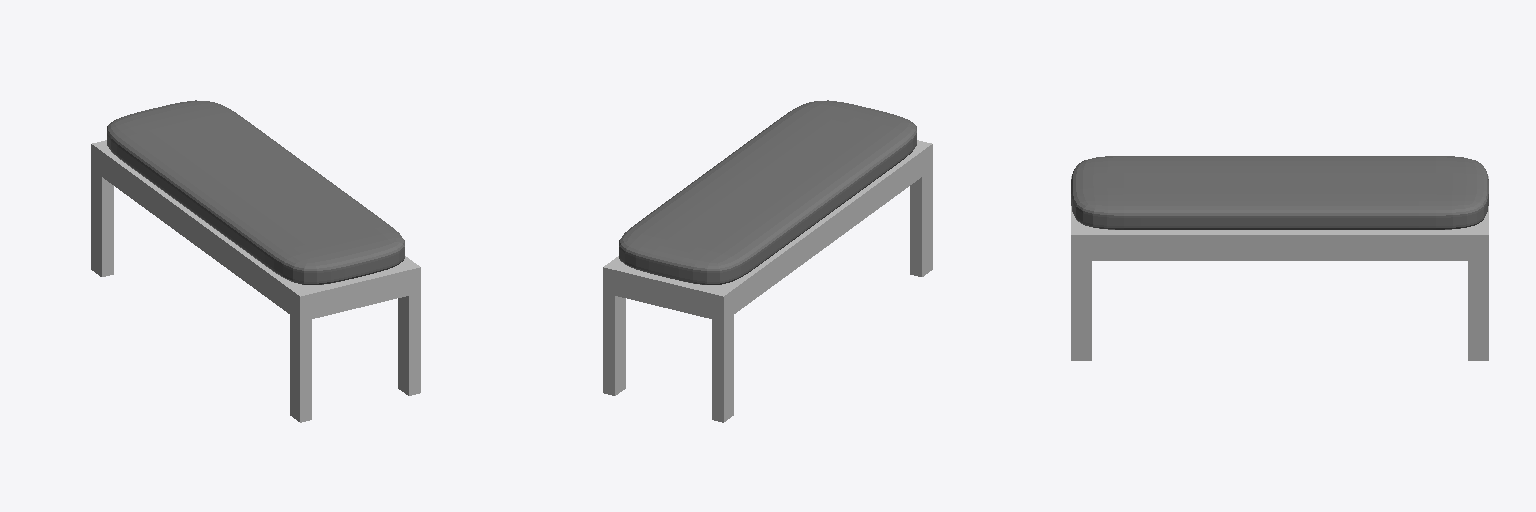
File: seat.obj
The picture shows the model from 3 angles: view 1: azimuth 30°, elevation 25°; view 2: azimuth 150°, elevation 25°; view 3: azimuth 270°, elevation 25°; orthographic projection.
Parts seen in each view (by area): view 1: Atas_Bangku_Cube.088; view 2: Atas_Bangku_Cube.088; view 3: Atas_Bangku_Cube.088.
Boxes of the visible parts, x1=… form: Atas_Bangku_Cube.088: x1=91, y1=100, x2=420, y2=422; Atas_Bangku_Cube.088: x1=603, y1=100, x2=932, y2=422; Atas_Bangku_Cube.088: x1=1071, y1=156, x2=1488, y2=360.
Bounding box in the file's own units: 0.5012 × 0.6 × 1.5.